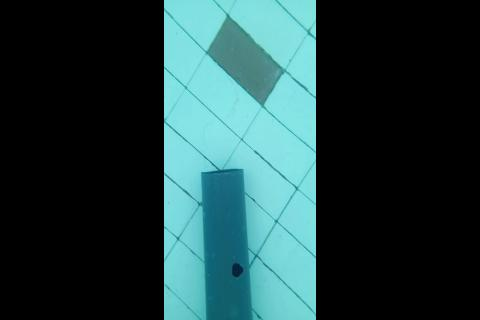kebocoran: (231, 261, 244, 278)
